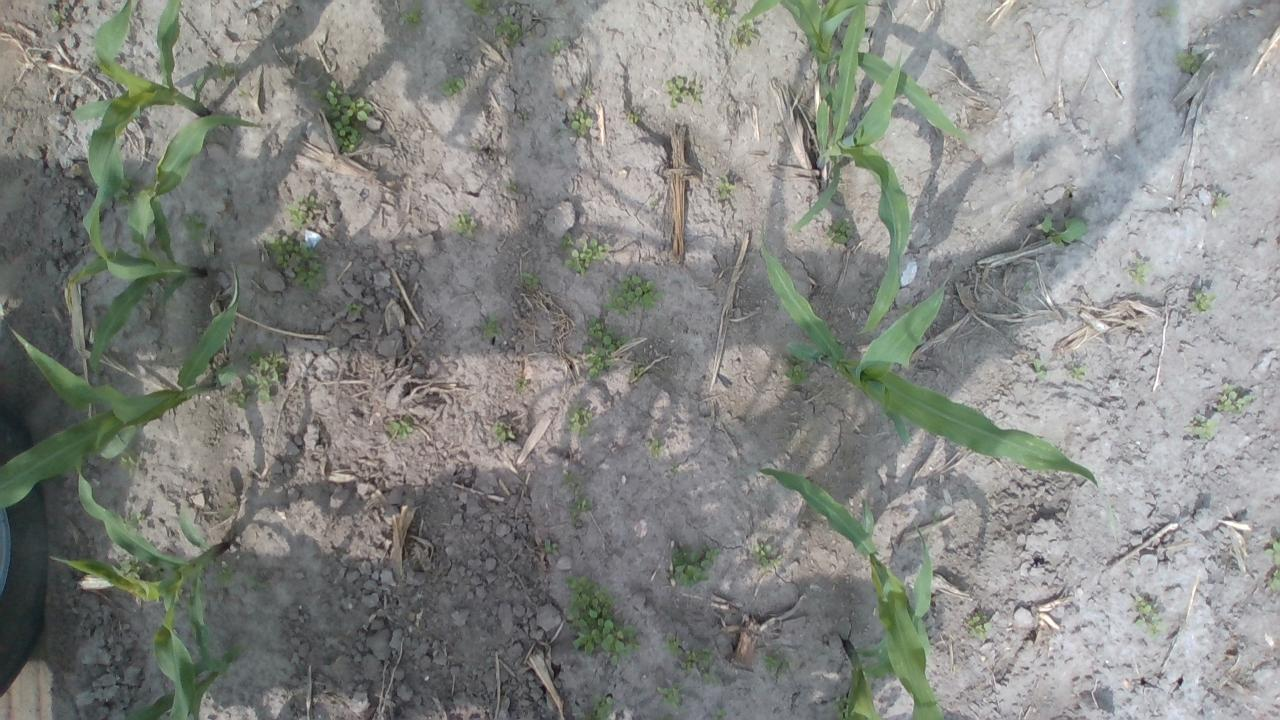Maize: (758, 215, 1108, 500), (0, 262, 243, 512), (736, 464, 946, 720), (72, 110, 264, 380), (50, 450, 230, 720), (75, 0, 214, 284), (735, 0, 978, 148), (794, 46, 910, 340), (840, 519, 932, 720), (124, 650, 242, 720)
Weeds: (562, 572, 640, 666), (309, 78, 373, 154), (580, 316, 646, 382), (266, 233, 326, 292), (662, 630, 721, 684), (603, 274, 665, 316), (243, 350, 288, 405), (670, 543, 720, 588), (560, 231, 608, 274), (1038, 214, 1088, 249), (1133, 595, 1169, 636), (1217, 383, 1256, 416), (666, 76, 703, 108), (494, 15, 526, 50), (288, 195, 318, 228), (782, 354, 812, 385), (111, 175, 139, 207), (566, 404, 593, 437), (825, 218, 855, 247), (760, 652, 794, 676), (754, 542, 784, 569), (964, 612, 992, 640), (1187, 286, 1215, 314), (658, 680, 684, 710), (180, 214, 208, 240), (732, 18, 755, 49), (1190, 413, 1216, 440), (703, 0, 736, 21), (118, 554, 144, 580), (590, 692, 614, 720), (1175, 50, 1202, 74), (570, 110, 594, 136), (212, 558, 234, 586), (387, 415, 412, 439), (454, 212, 477, 238), (462, 0, 497, 17), (440, 74, 465, 97), (829, 693, 848, 720), (118, 448, 136, 476), (716, 175, 736, 200), (1211, 190, 1233, 212), (1127, 260, 1147, 284), (544, 37, 570, 55), (398, 7, 422, 26), (567, 496, 593, 513), (518, 270, 540, 289), (215, 62, 238, 80), (481, 312, 498, 336), (1264, 541, 1280, 565), (1032, 358, 1048, 382), (495, 422, 516, 440), (126, 512, 144, 530), (247, 574, 266, 590), (1069, 365, 1086, 382), (1267, 569, 1280, 591), (648, 438, 663, 455), (1158, 5, 1178, 17), (146, 567, 162, 582), (544, 540, 560, 554), (344, 302, 364, 313), (236, 392, 248, 409), (50, 9, 61, 26), (713, 710, 730, 720), (630, 110, 642, 124), (1023, 282, 1034, 295), (932, 510, 941, 524), (469, 142, 481, 152), (160, 284, 170, 296), (583, 88, 593, 99), (871, 286, 880, 298), (902, 303, 912, 313), (516, 382, 526, 391), (566, 473, 576, 482), (510, 183, 518, 192), (671, 464, 677, 474)
